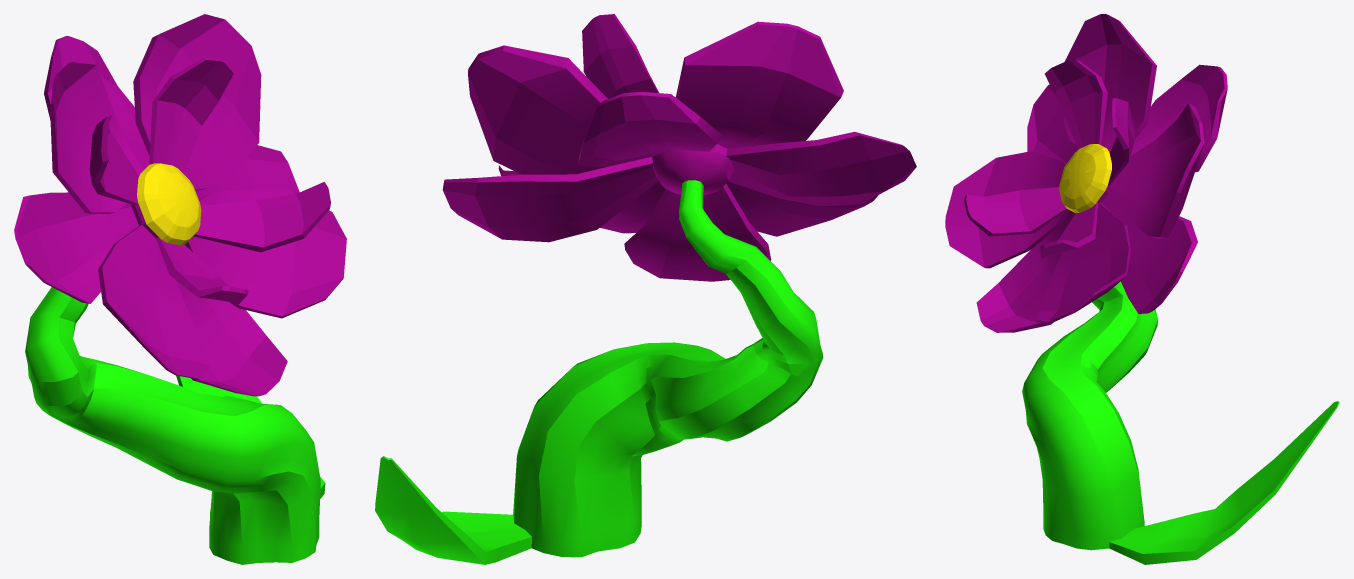
The model's file is doodad_flower1_mesh.fbx.
3 views of the same model, side by side, from view 1: azimuth 30°, elevation 25°; view 2: azimuth 150°, elevation 25°; view 3: azimuth 270°, elevation 25° (orthographic). The views are drawn at different scales.
Parts seen in each view (by area): view 1: doodad_Flower1_mesh; view 2: doodad_Flower1_mesh; view 3: doodad_Flower1_mesh.
Boxes of the visible parts, x1,y1,x2,y2 form: doodad_Flower1_mesh: [14, 14, 346, 564]; doodad_Flower1_mesh: [375, 14, 916, 564]; doodad_Flower1_mesh: [945, 14, 1339, 564].
Bounding box in the file's own units: 6.82 × 9 × 7.38.
Materials: 1 (1 with a texture image).
